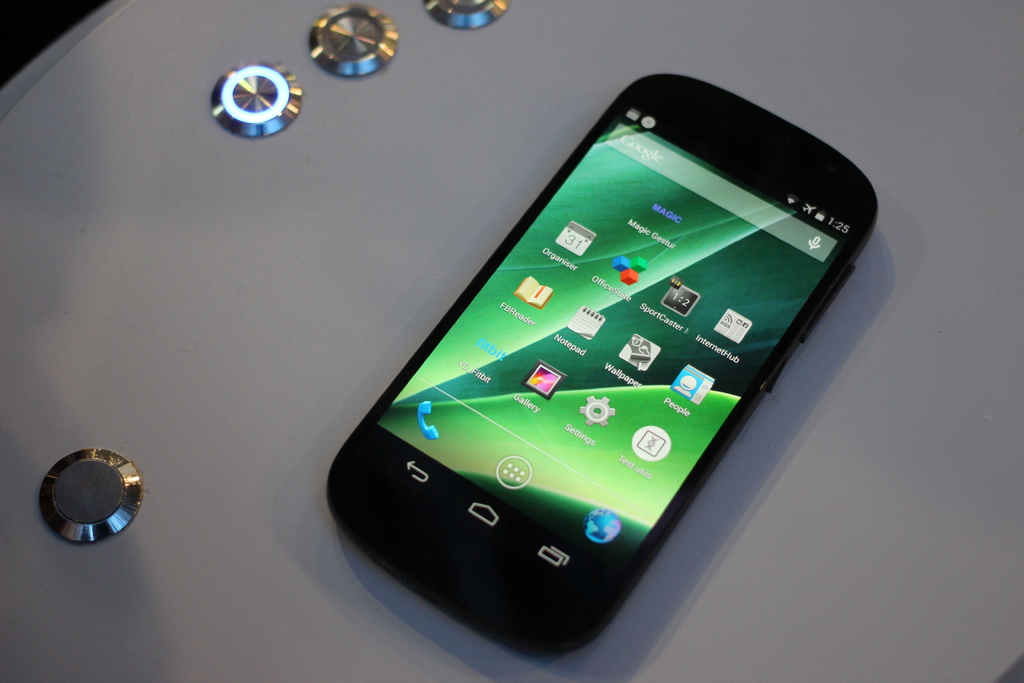Mobile-phone: (316, 69, 891, 658)
